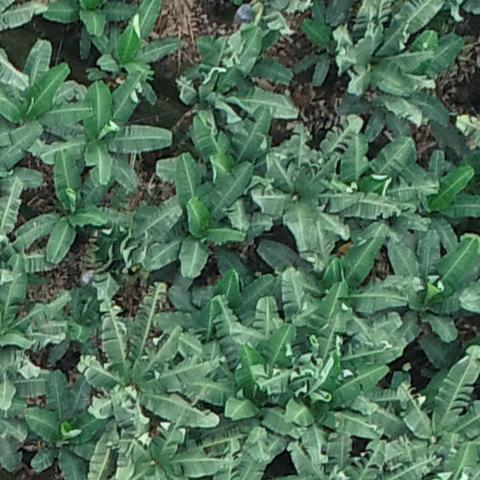Banana-plant: (94, 283, 218, 438), (260, 125, 402, 253), (277, 235, 407, 353), (52, 70, 171, 192), (140, 153, 253, 280), (375, 230, 480, 347), (334, 0, 448, 107), (389, 347, 480, 480), (201, 325, 303, 443), (23, 147, 113, 265), (184, 36, 299, 128), (1, 39, 93, 153), (1, 255, 69, 407), (24, 369, 104, 480), (90, 0, 176, 100), (286, 358, 389, 441), (406, 151, 480, 249), (118, 431, 228, 480), (284, 429, 389, 480), (44, 0, 136, 57)
